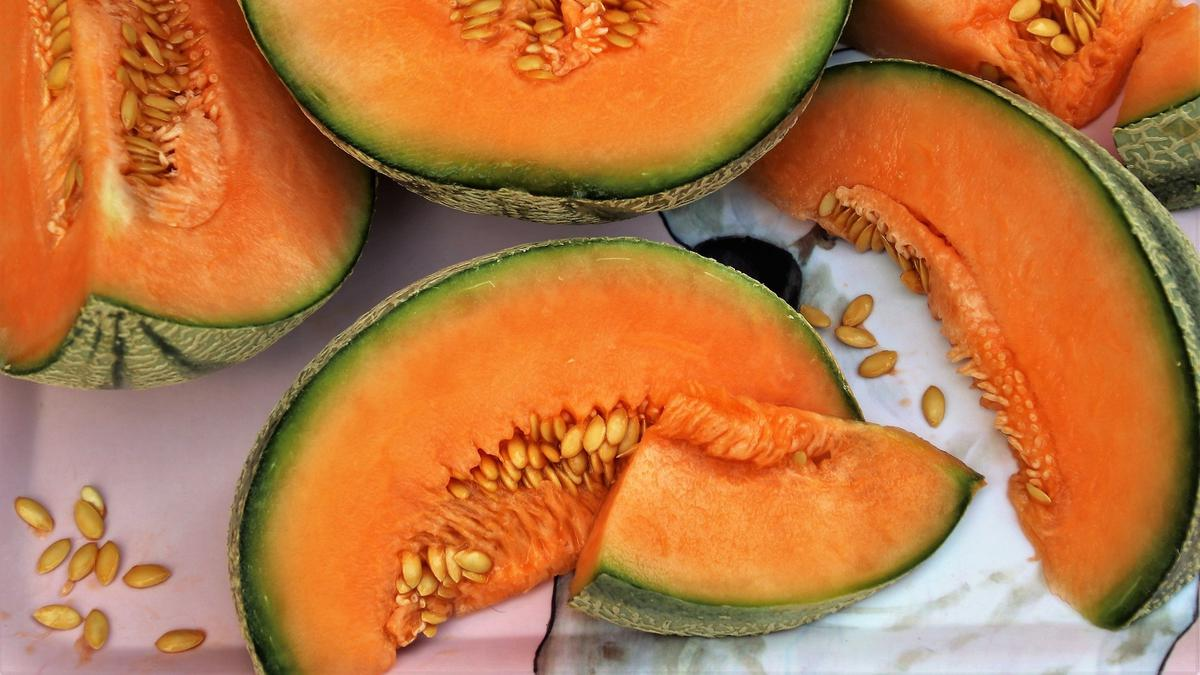Melon: (701, 56, 1184, 626)
